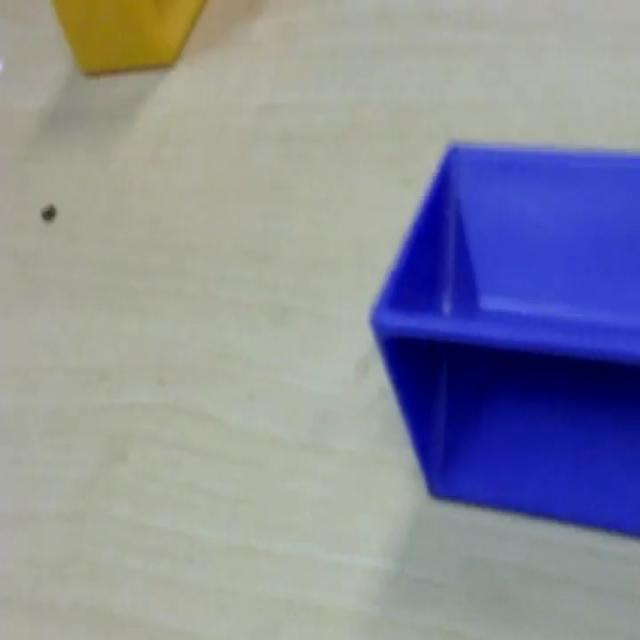blue_block: (368, 137, 638, 536)
yellow_block: (51, 0, 208, 76)
